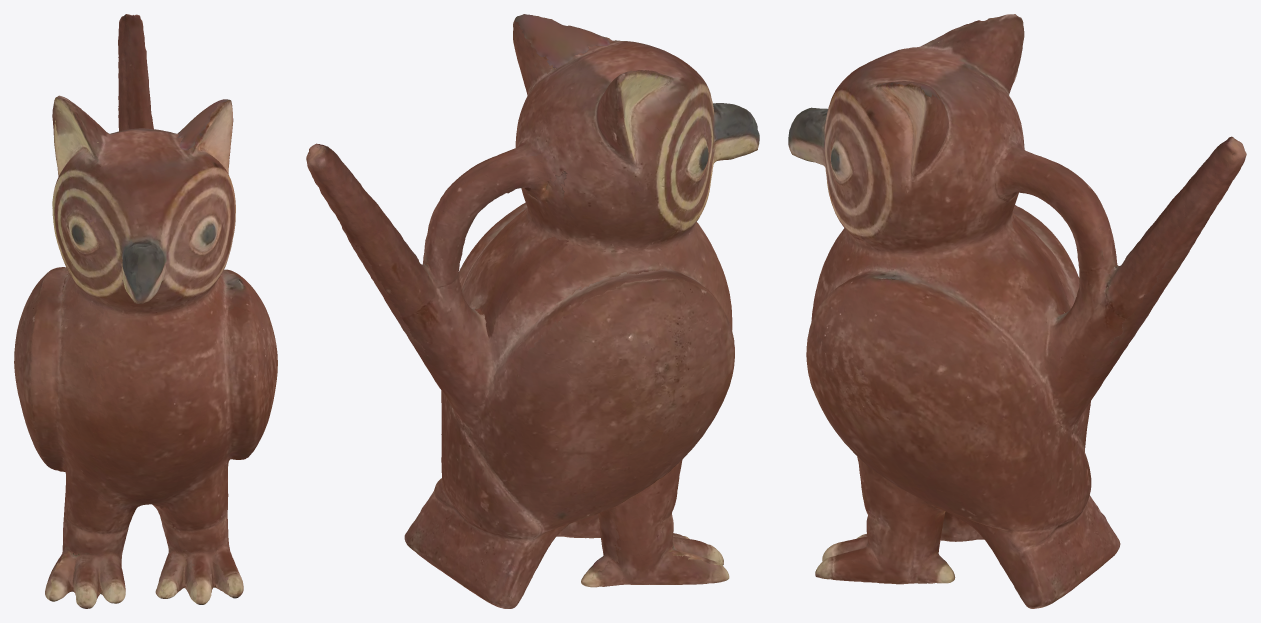
Rendered from preview.glb.
3 renders of one model, left to right at view 1: azimuth 30°, elevation 25°; view 2: azimuth 150°, elevation 25°; view 3: azimuth 270°, elevation 25°, orthographic. The views are drawn at different scales.
Visible parts, largest first — view 1: Object_2, Object_6; view 2: Object_2, Object_6; view 3: Object_2.
Boxes of the visible parts, x1,y1,x2,y2 form: Object_2: [14, 14, 277, 608]; Object_6: [177, 99, 230, 150]; Object_2: [306, 15, 759, 608]; Object_6: [515, 14, 609, 68]; Object_2: [788, 14, 1246, 608].
Bounding box in the file's own units: 0.2594 × 0.4679 × 0.3747.
Materials: 2 (2 with a texture image).
